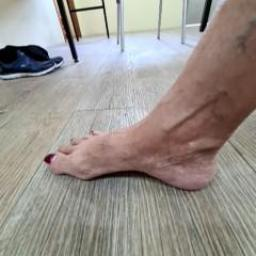Medial View -Right Foot-: (18, 78, 255, 200)
